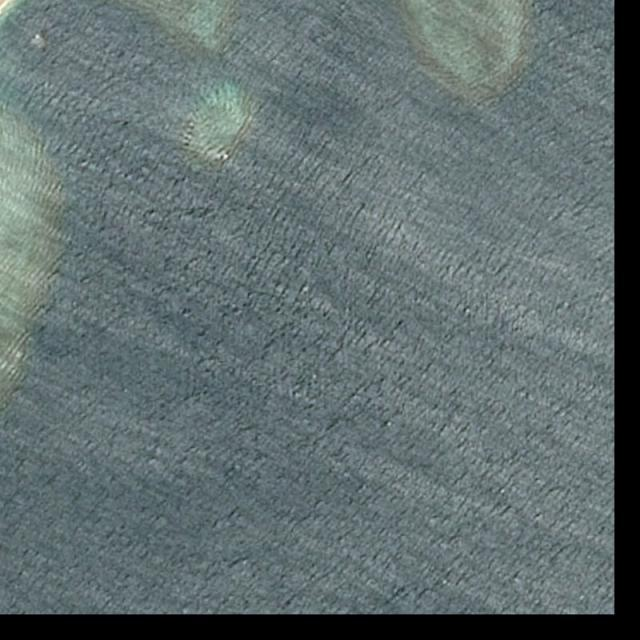ship: (35, 34, 40, 39)
